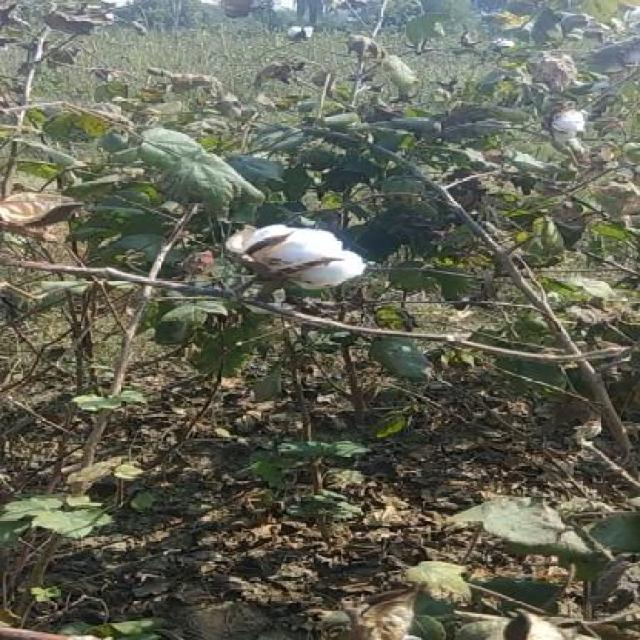cotton_ready: (216, 217, 378, 318)
